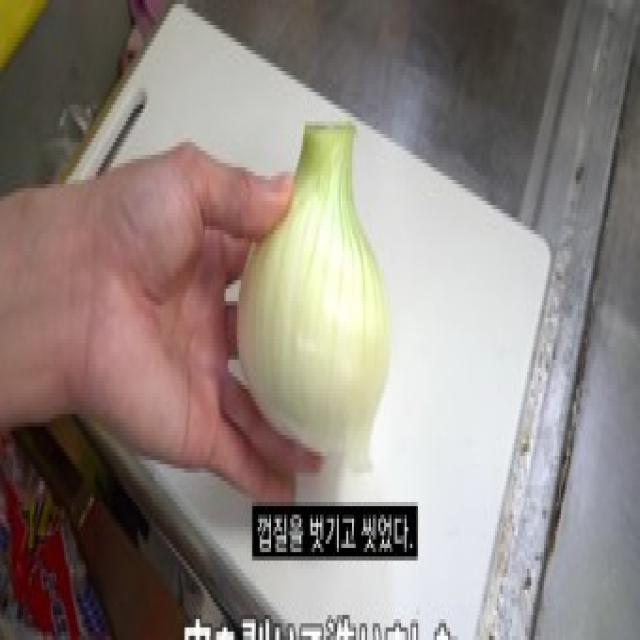onion: (227, 88, 410, 502)
